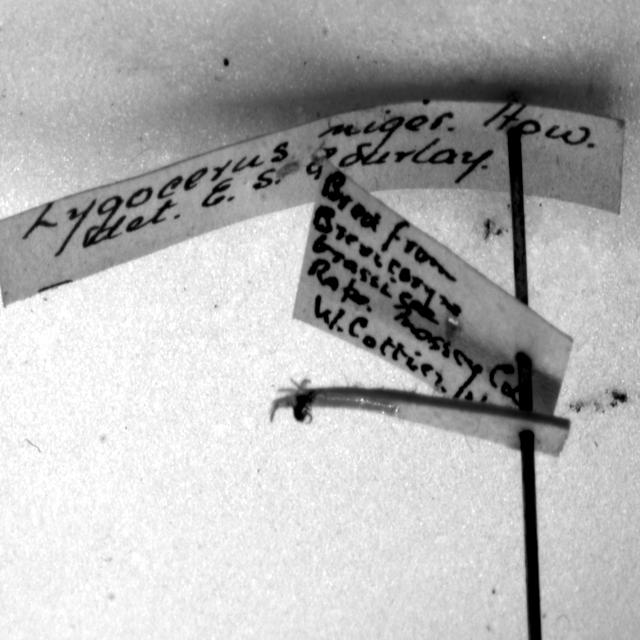hand_label: (0, 101, 624, 306), (294, 161, 572, 414)
